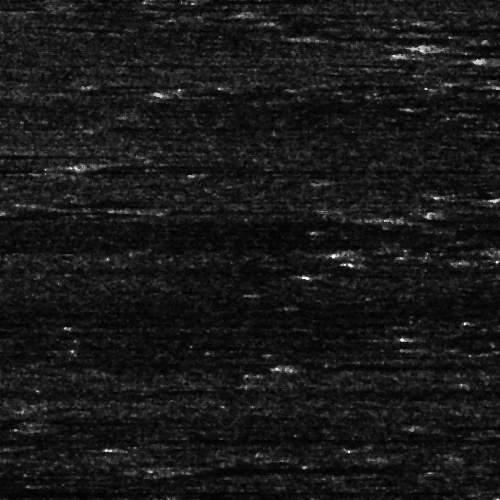object: (394, 36, 499, 53), (112, 461, 217, 476), (351, 213, 466, 222), (273, 353, 326, 370), (53, 159, 146, 168), (274, 32, 347, 41), (449, 191, 500, 202), (464, 487, 500, 500), (481, 40, 500, 57), (481, 53, 500, 62), (167, 0, 292, 1), (480, 81, 500, 86)
shadow: (164, 461, 403, 476), (300, 353, 500, 370), (0, 476, 104, 493), (311, 32, 455, 41), (100, 159, 232, 168), (446, 36, 500, 53), (409, 213, 500, 222), (229, 0, 444, 1), (159, 207, 294, 208)
